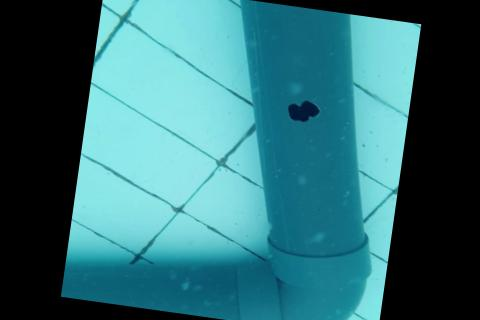kebocoran: (285, 97, 322, 125)
